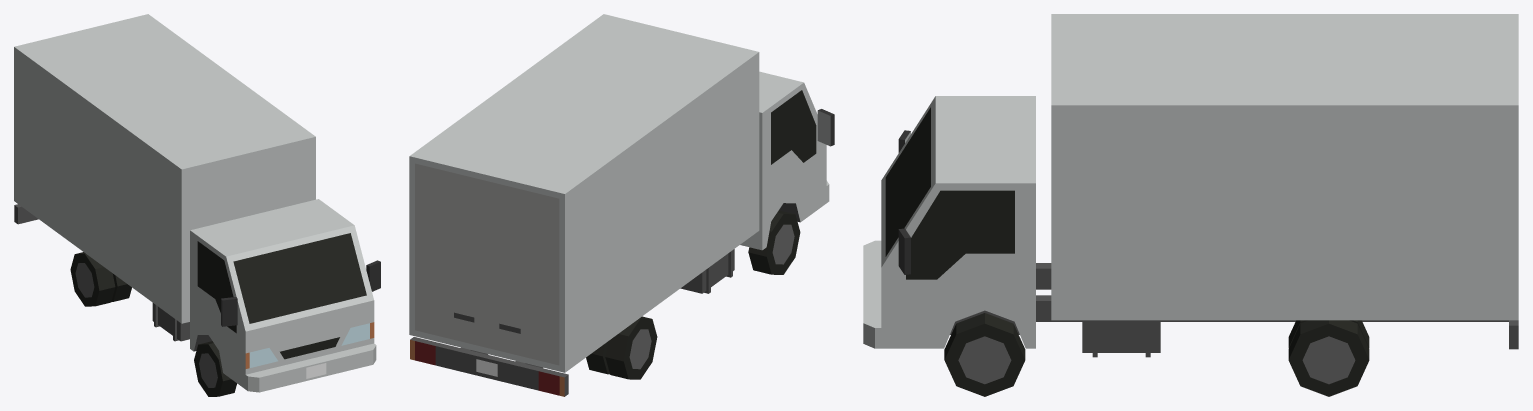
File: Veh_Truck_02_White.glb
3 renders of one model, left to right at view 1: azimuth 30°, elevation 25°; view 2: azimuth 150°, elevation 25°; view 3: azimuth 270°, elevation 25°, orthographic. The views are drawn at different scales.
Parts seen in each view (by area): view 1: Truck_02_White, Wheel_RR, Wheel_FR; view 2: Truck_02_White, Wheel_RR, Wheel_FR; view 3: Truck_02_White, Wheel_RL, Wheel_FL.
Boxes of the visible parts, box(x1,y1,x2,y2) form: Truck_02_White: box(14, 14, 380, 392); Wheel_RR: box(70, 252, 131, 306); Wheel_FR: box(194, 341, 236, 396); Truck_02_White: box(409, 14, 834, 396); Wheel_RR: box(586, 316, 657, 379); Wheel_FR: box(748, 210, 800, 274); Truck_02_White: box(863, 14, 1518, 357); Wheel_RL: box(1288, 320, 1369, 396); Wheel_FL: box(944, 313, 1025, 396).
Size of the model in its own units: 1.27 by 1.61 by 3.26.
Materials: 1 (1 with a texture image).
